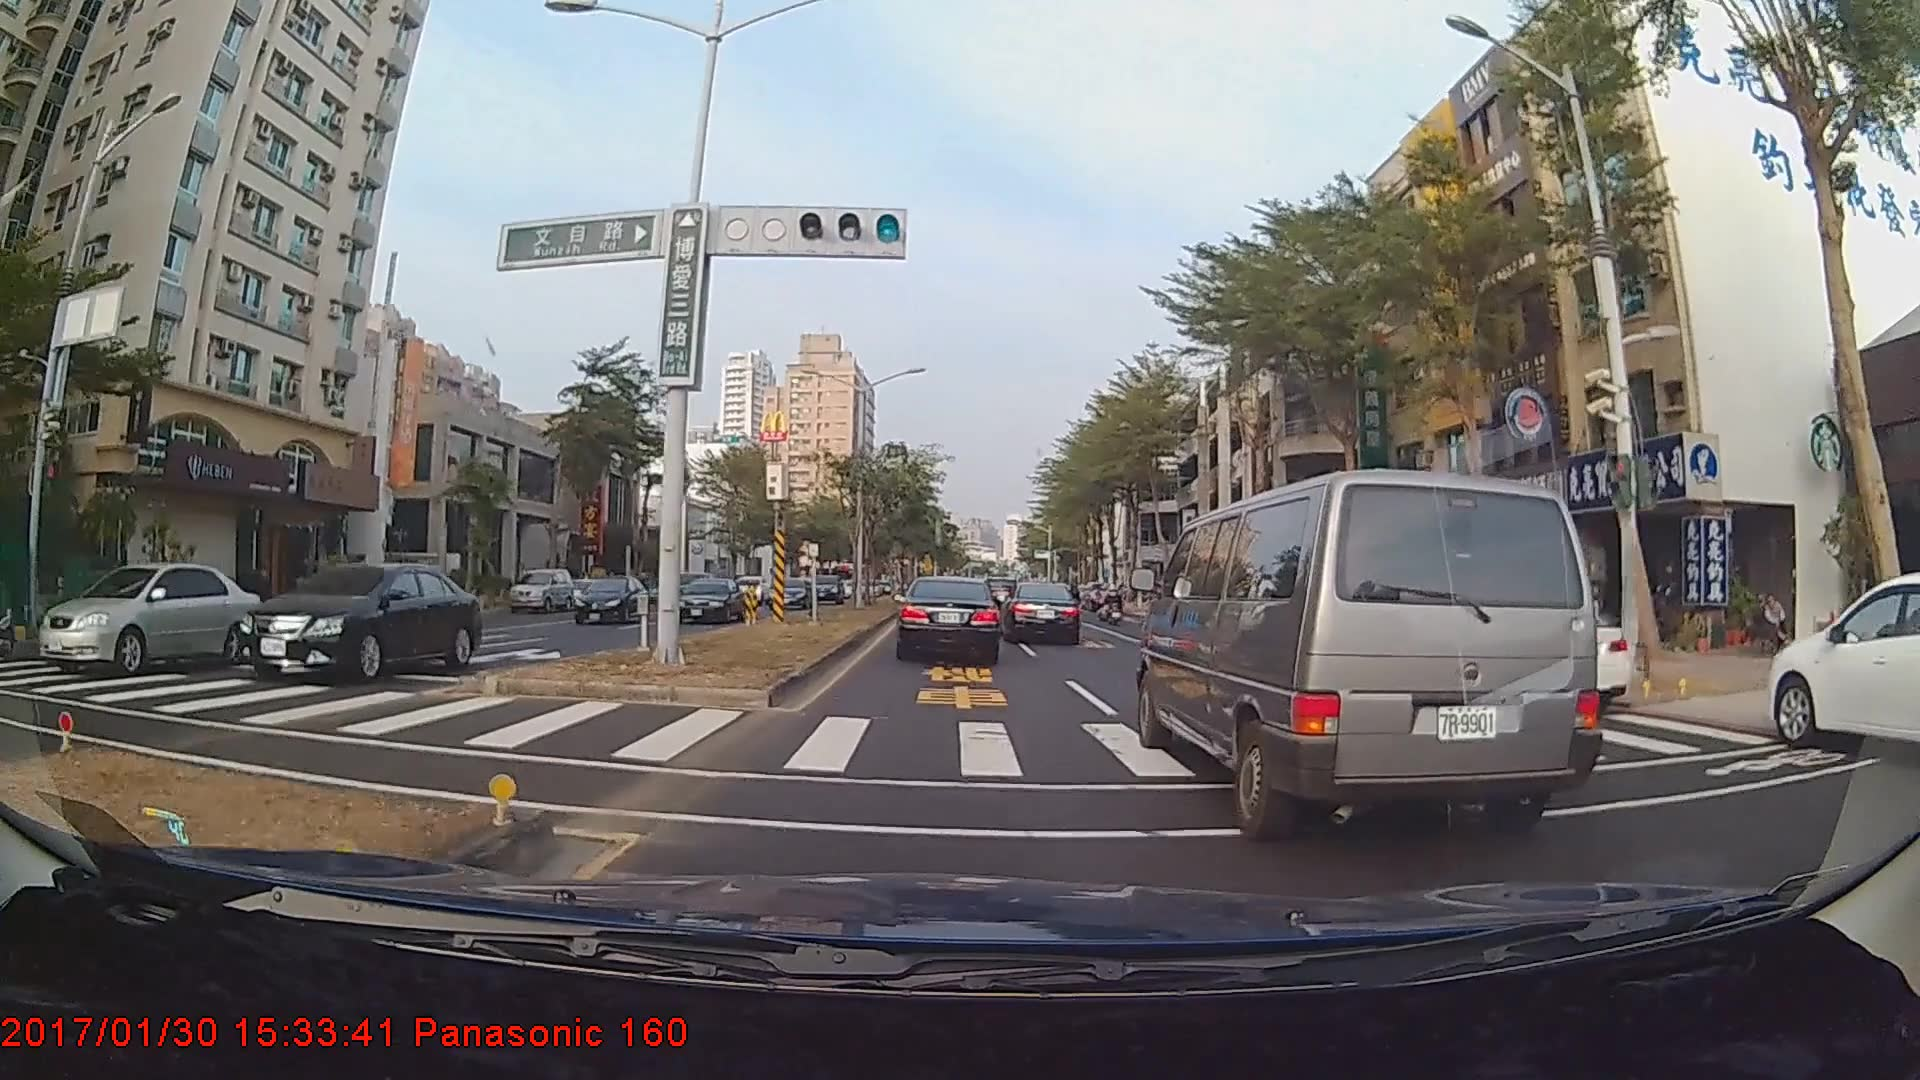vehicle: (1142, 462, 1611, 833), (229, 560, 483, 688), (1763, 570, 1917, 764), (34, 560, 258, 679), (898, 578, 1001, 663), (1002, 583, 1083, 645), (570, 574, 647, 625), (669, 575, 742, 624), (508, 566, 574, 612), (764, 578, 811, 611)
